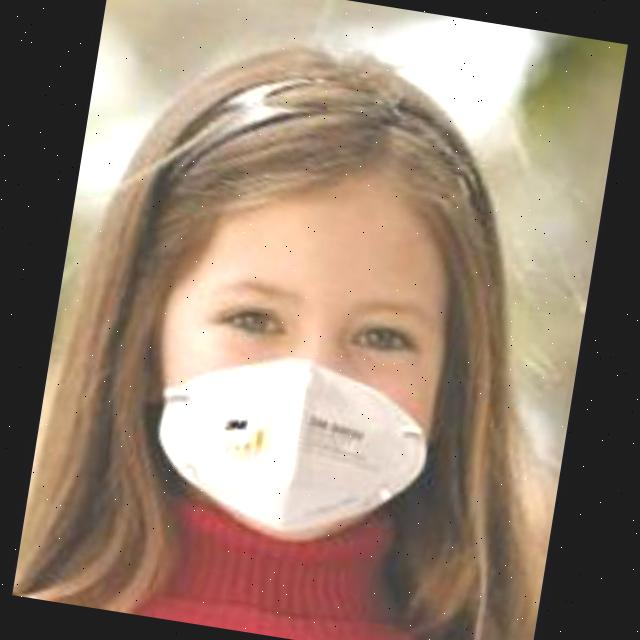suspicion: (112, 87, 510, 550)
